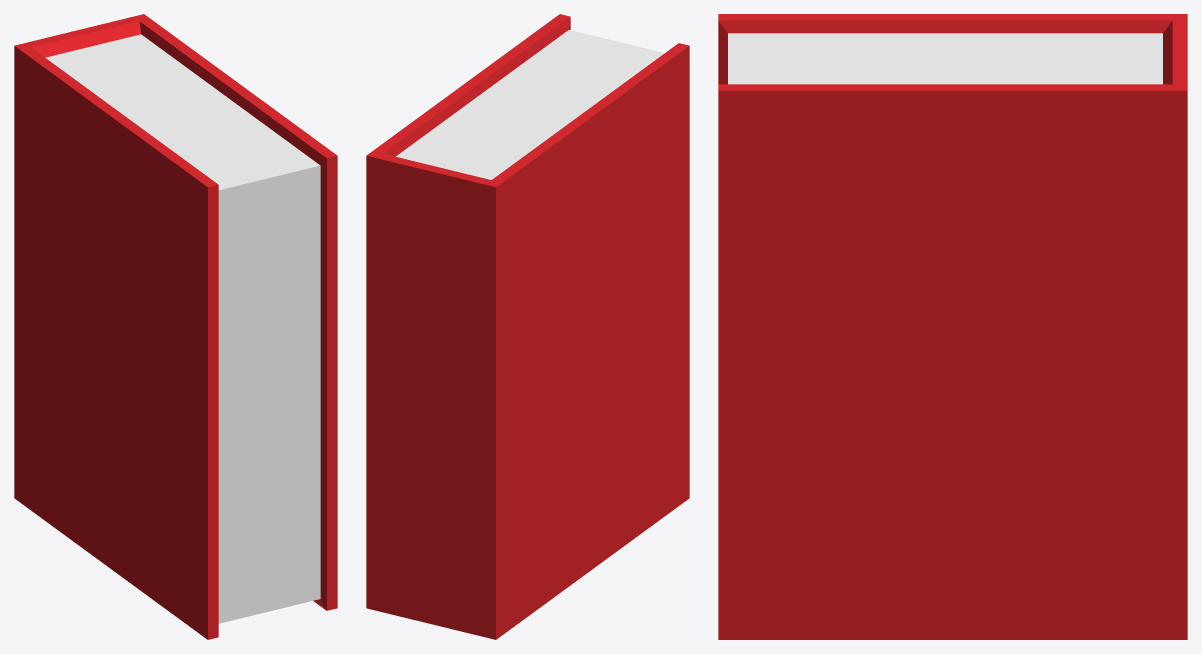
File: Book.fbx
3 views of the same model, side by side, from view 1: azimuth 30°, elevation 25°; view 2: azimuth 150°, elevation 25°; view 3: azimuth 270°, elevation 25° (orthographic). The views are drawn at different scales.
Parts seen in each view (by area): view 1: BOOK; view 2: BOOK; view 3: BOOK.
Part boxes in pixels (<box>): BOOK: <box>14,14,337,639</box>; BOOK: <box>366,14,689,639</box>; BOOK: <box>718,14,1187,639</box>.
Bounding box in the file's own units: 120 × 400 × 310.
